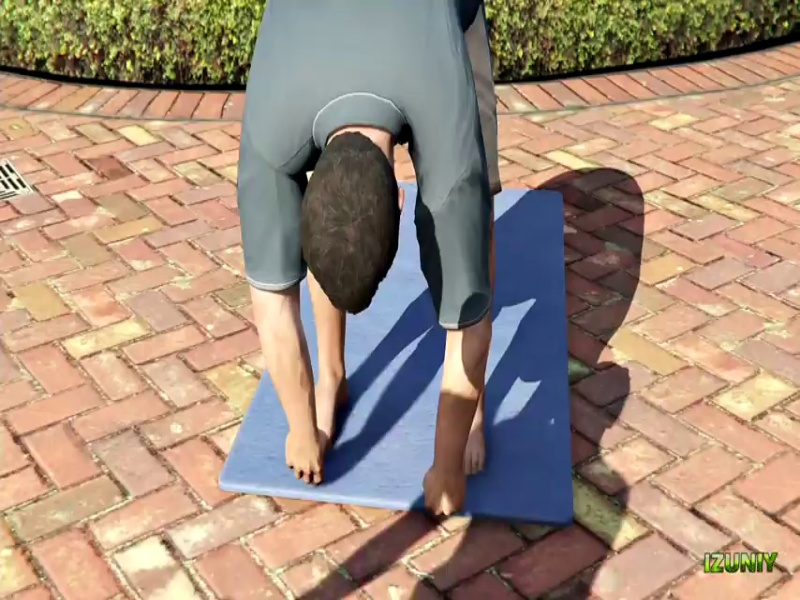human: (222, 4, 508, 527)
